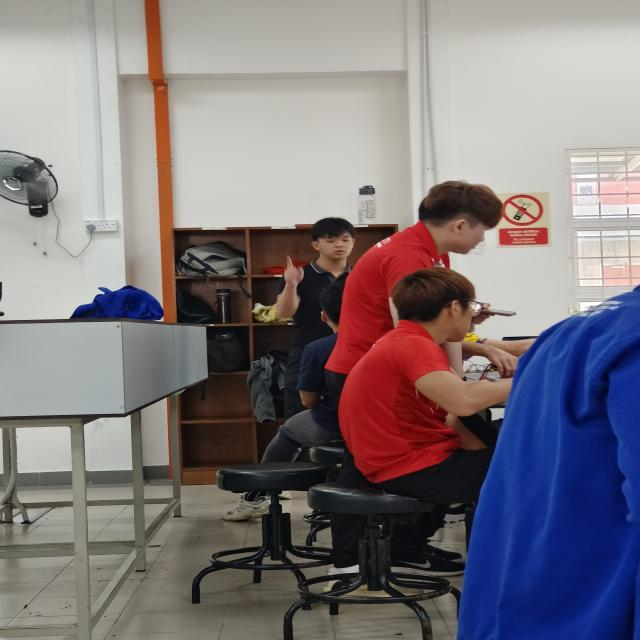person_without_labcoat: (339, 267, 511, 516), (276, 218, 355, 418), (419, 181, 502, 254)
